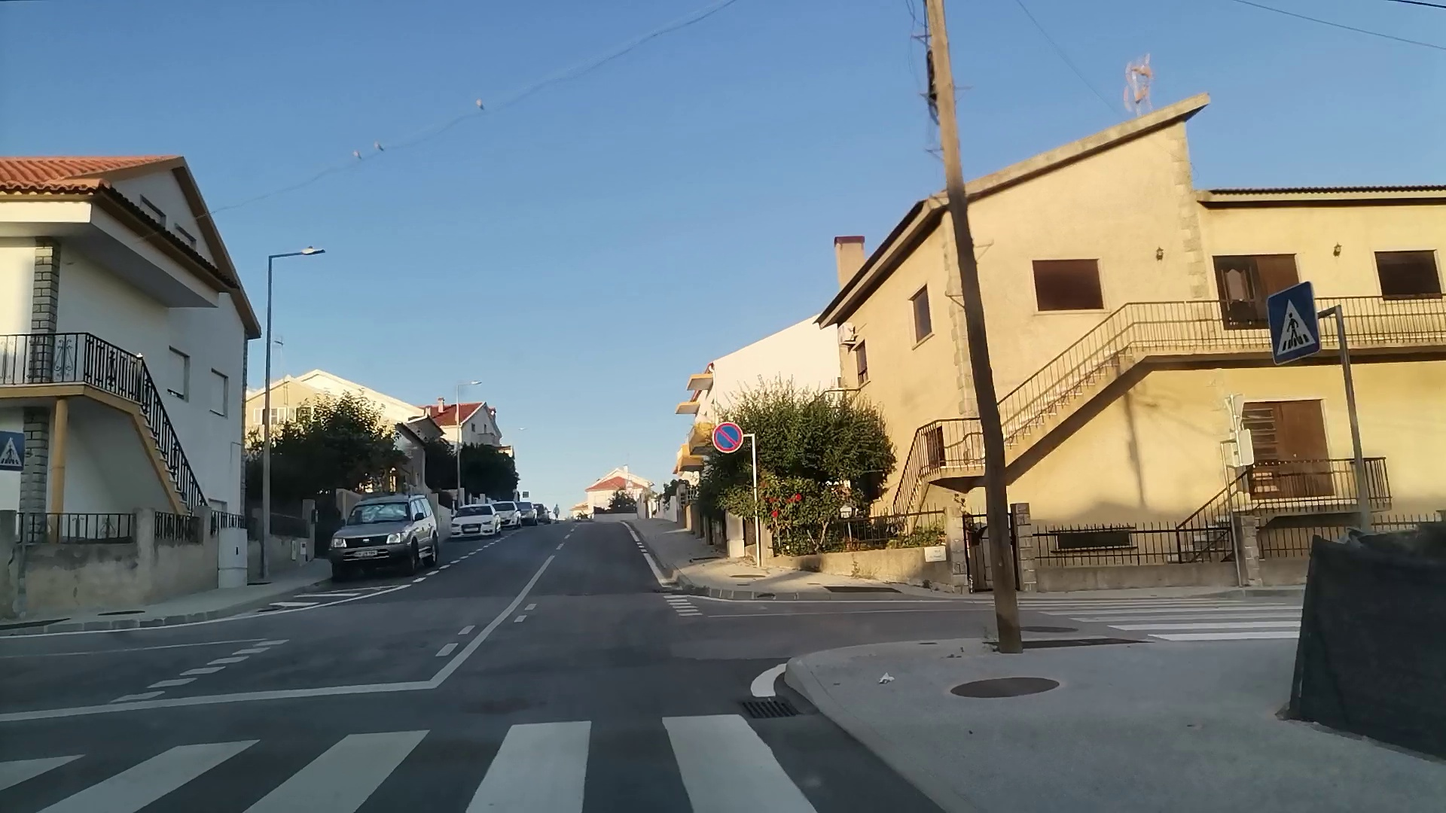Stairs: (1013, 584, 1312, 643)
